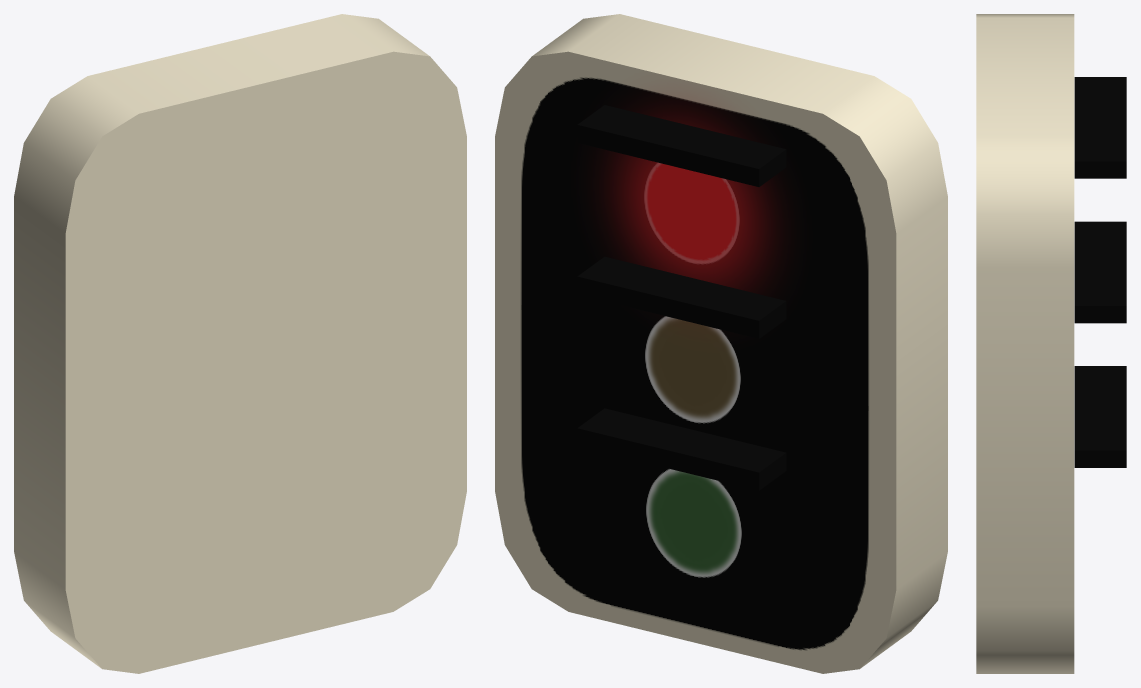
Rendered from TrafficLightsLight.fbx.
The picture shows the model from 3 angles, left to right: view 1: azimuth 30°, elevation 25°; view 2: azimuth 150°, elevation 25°; view 3: azimuth 270°, elevation 25°; orthographic projection. The views are drawn at different scales.
Visible parts, largest first — view 1: Light; view 2: Light; view 3: Light.
Part boxes in pixels (x1,y1,x2,y2): Light: (14, 14, 466, 673); Light: (495, 14, 947, 673); Light: (976, 14, 1126, 673).
Size of the model in its own units: 180 by 61.28 by 240.
